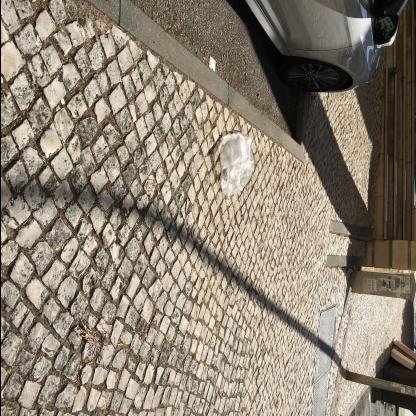plastik: (217, 131, 254, 197)
